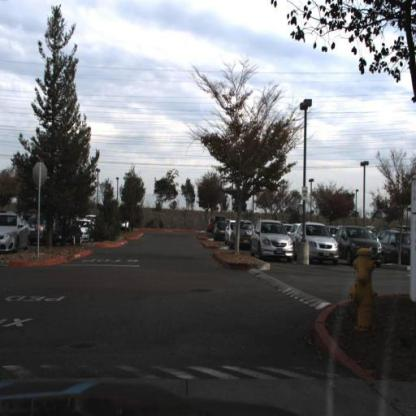car: (336, 225, 383, 264), (251, 221, 295, 262), (295, 223, 340, 262), (1, 211, 32, 255), (382, 229, 416, 267), (1, 215, 29, 258), (51, 218, 82, 247), (231, 219, 258, 250), (230, 221, 255, 251), (27, 216, 48, 246), (28, 217, 48, 248), (78, 220, 96, 245), (224, 217, 237, 245), (212, 220, 227, 243), (81, 225, 92, 247), (215, 226, 228, 244)
